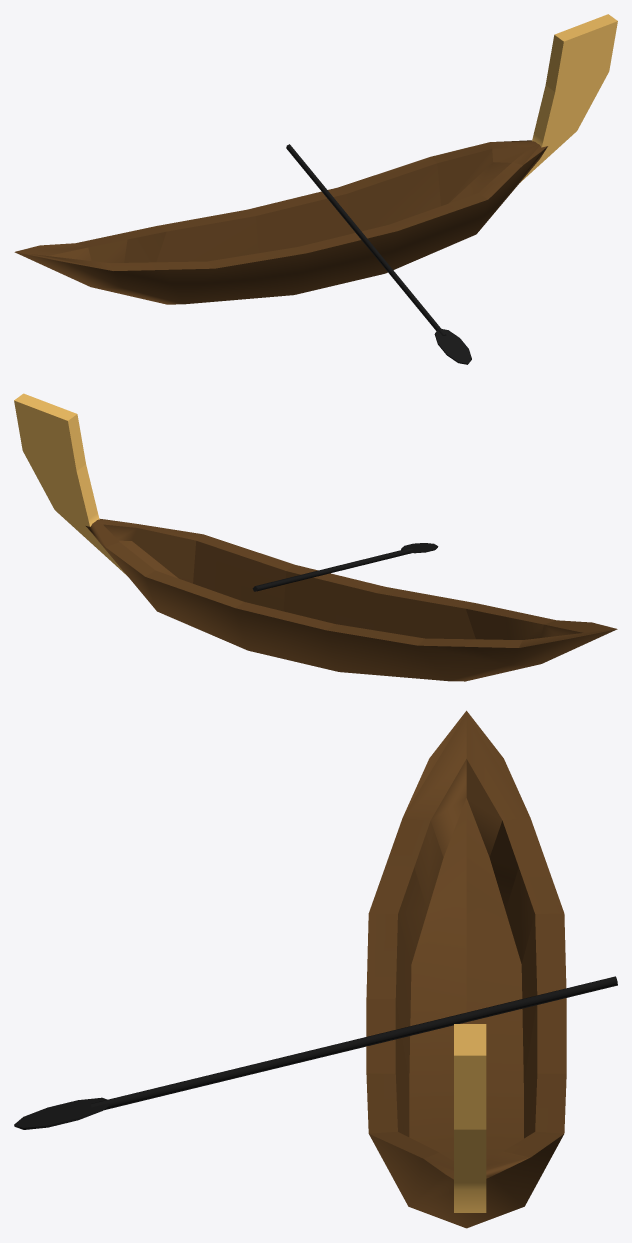
Rendered from 4bc73d96-8171-4a98-815a-7478a2eeb682.glb.
3 renders of one model, top to bottom at view 1: azimuth 30°, elevation 25°; view 2: azimuth 150°, elevation 25°; view 3: azimuth 270°, elevation 25°, orthographic. The views are drawn at different scales.
Parts seen in each view (by area): view 1: Cylinder001; view 2: Cylinder001; view 3: Cylinder001.
Boxes of the visible parts, x1=… form: Cylinder001: x1=14, y1=14, x2=617, y2=364; Cylinder001: x1=14, y1=393, x2=617, y2=681; Cylinder001: x1=14, y1=710, x2=617, y2=1228.
Size of the model in its own units: 86.15 by 26.82 by 44.72.
